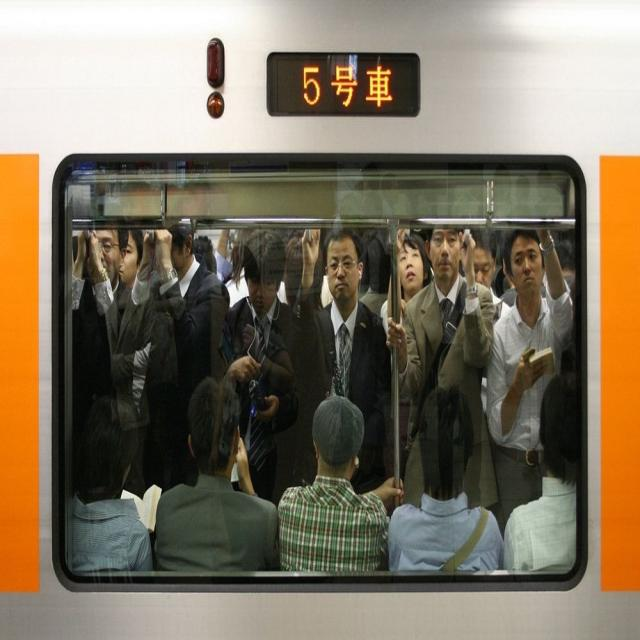body: (115, 227, 232, 499), (385, 227, 495, 512), (285, 228, 395, 495), (151, 369, 281, 586), (487, 226, 578, 534), (215, 227, 309, 507), (276, 391, 406, 572), (385, 383, 505, 571), (500, 367, 580, 572), (64, 393, 154, 575), (378, 226, 435, 483), (99, 227, 156, 465), (69, 226, 131, 396), (410, 225, 517, 307), (282, 231, 337, 373), (192, 225, 251, 306), (356, 230, 391, 324), (542, 221, 578, 305), (274, 273, 333, 305), (133, 342, 152, 413), (71, 228, 89, 282)
